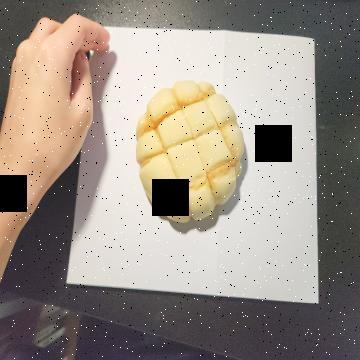melon_bread: (135, 81, 247, 226)
